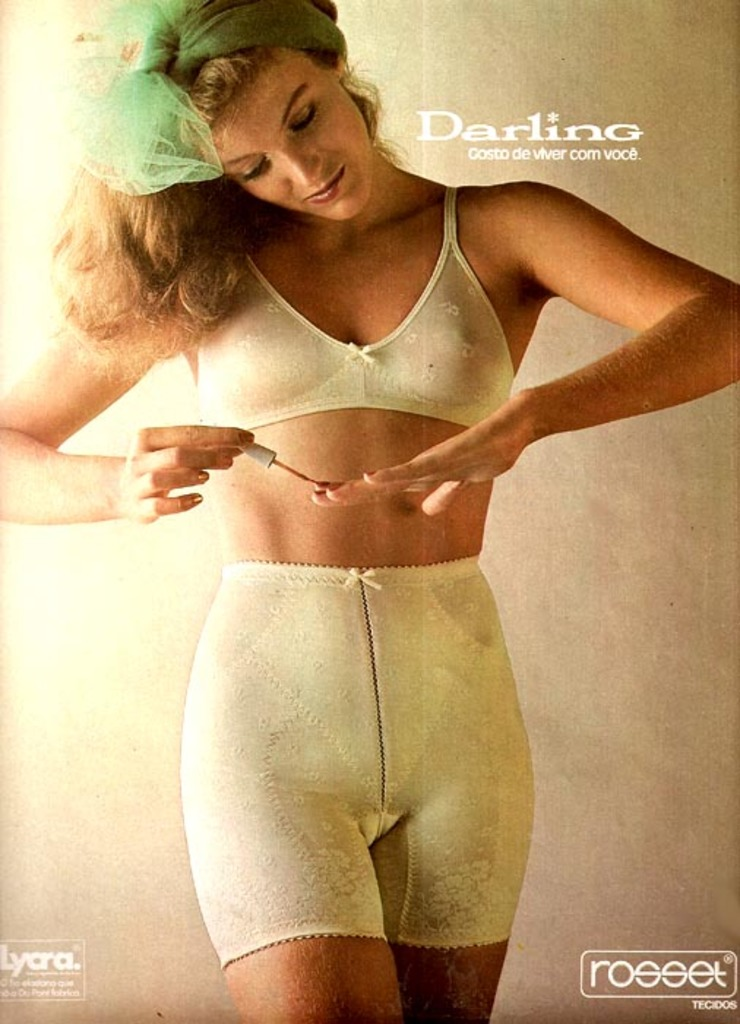Person: (0, 0, 740, 1024)
